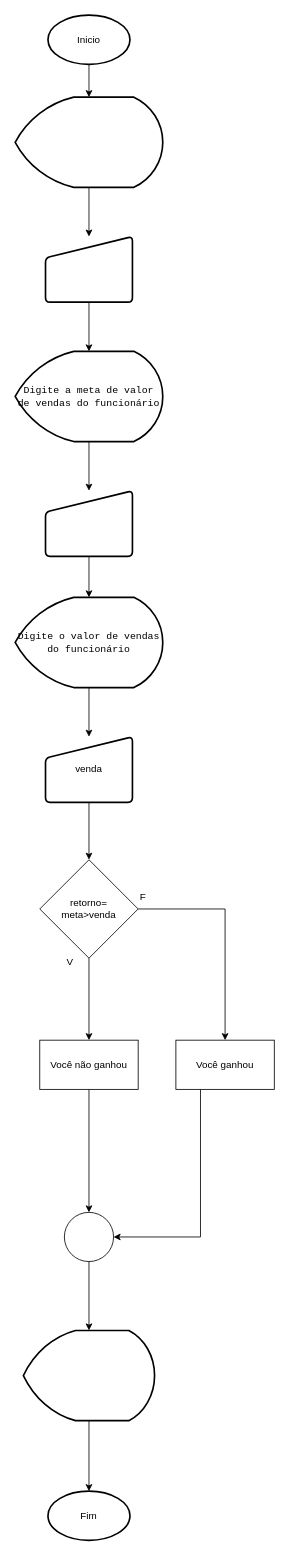
The diagram is 289 pixels wide and 1555 high, and some of its shapes have lost their labels. Each missing label, with the centre of its shape:
"Funcionário:" + nomefuncionario + " " + retorno: [88,1375]
Digite o nome do funcionário: [88,142]
meta: [88,523]
nomefuncionario: [88,269]
